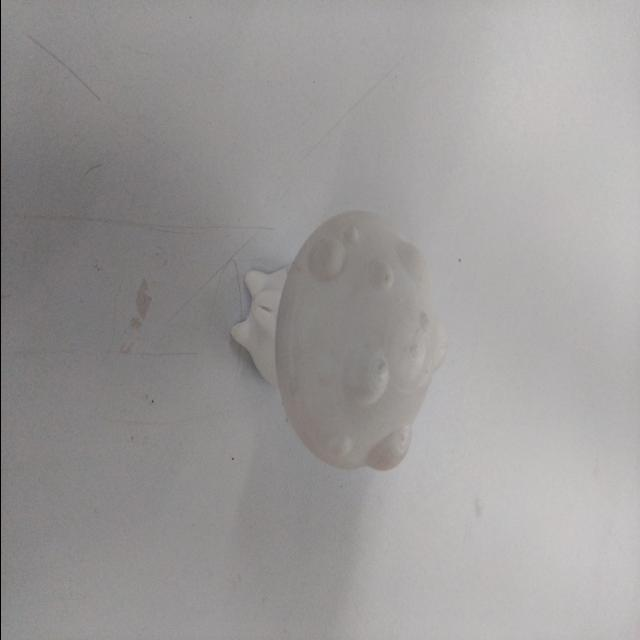Hongo: (222, 195, 440, 485)
